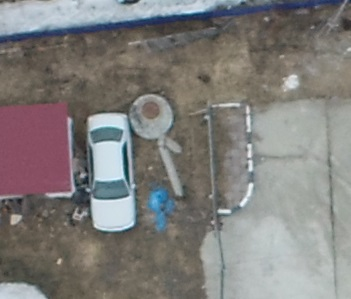opora: (152, 132, 185, 201)
